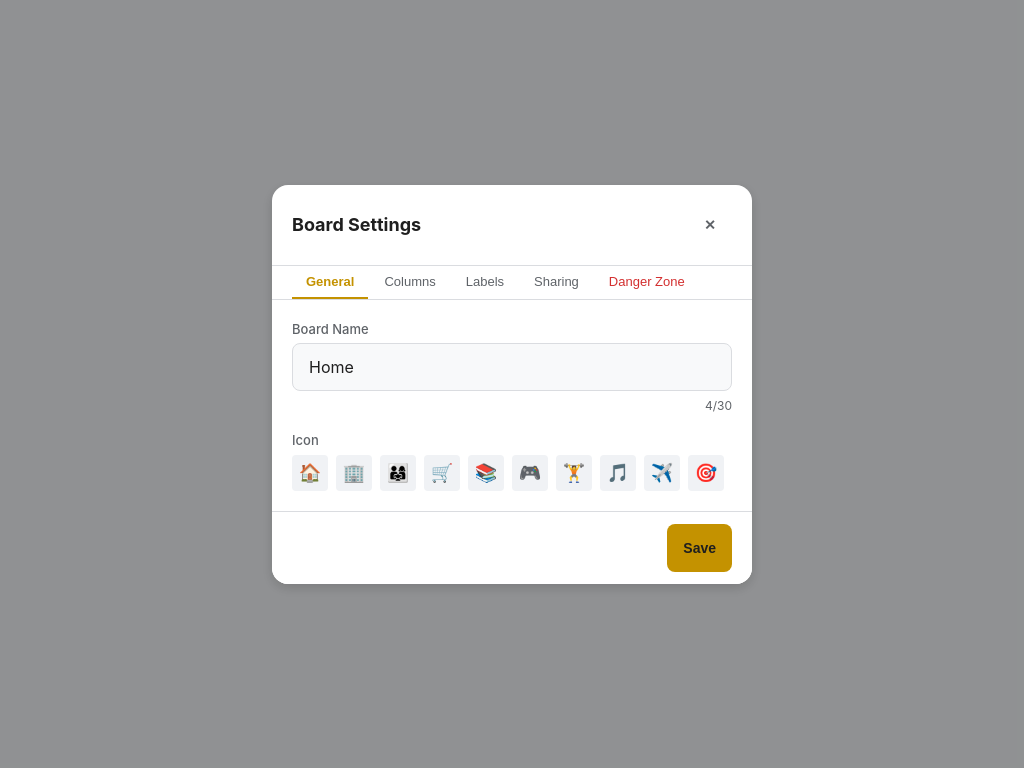
Test case: AC1: Danger Zone › puts a secondary Archive button above Delete
The width and height of the screenshot is (1024, 768).
Click the tab "Danger Zone". click: x=647, y=282
box: [595,266,699,298]
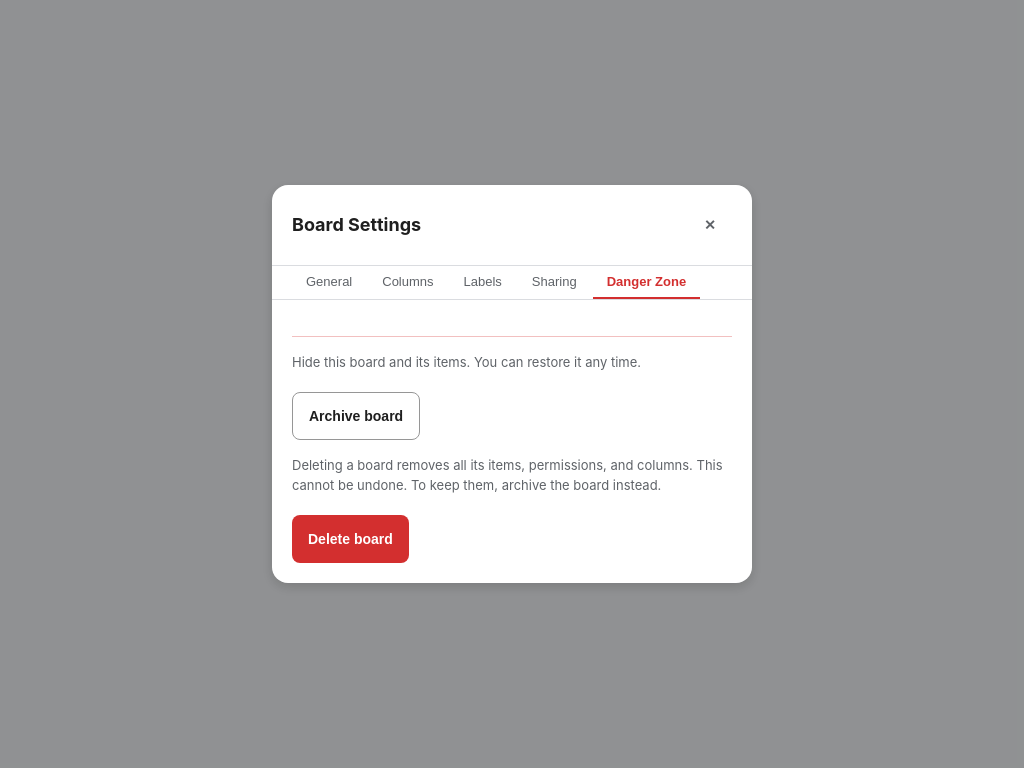
Expected: the text "Hide this board and its items. You can restore it any time." is shown, [292,354,641,370]
Expected: the text "To keep them, archive the board instead" is shown, [292,457,723,493]
